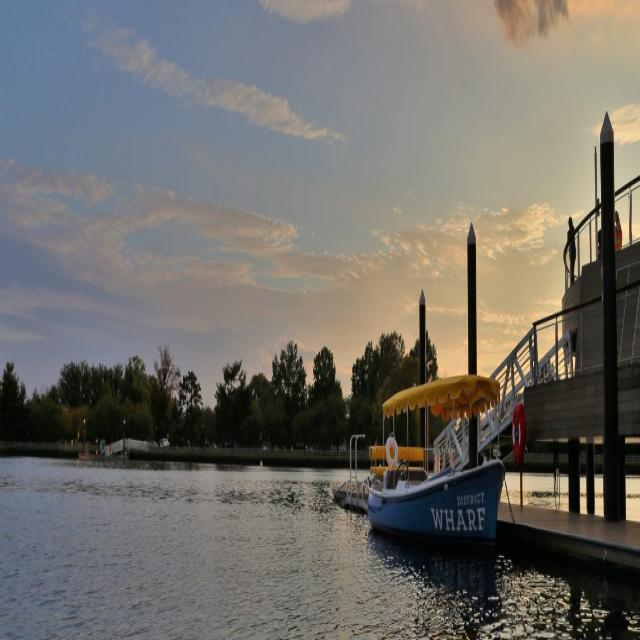houseboat: (371, 361, 506, 552)
